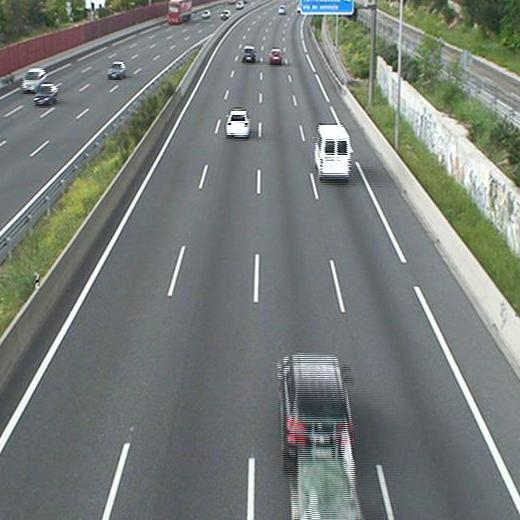car: (280, 356, 349, 451), (226, 110, 249, 135), (269, 49, 283, 65), (242, 46, 255, 61), (276, 6, 287, 14)
van: (315, 125, 351, 179)
